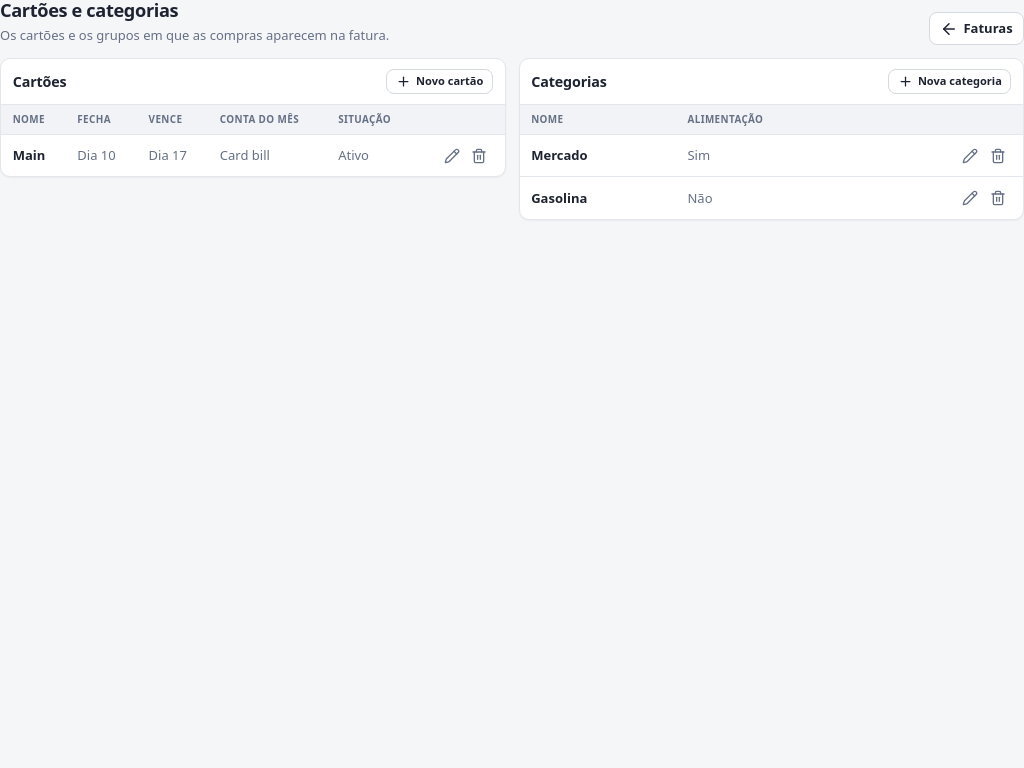
CardSettingsPage › keeps the form open with the server message when saving fails
Expected: the element "Categorias" is shown, left=518, top=58, right=1023, bottom=220
What coordinates should you click on to do the following:
click the button named "Editar Main"
I would click on:
 (452, 156)
Its box is left=438, top=142, right=466, bottom=169.
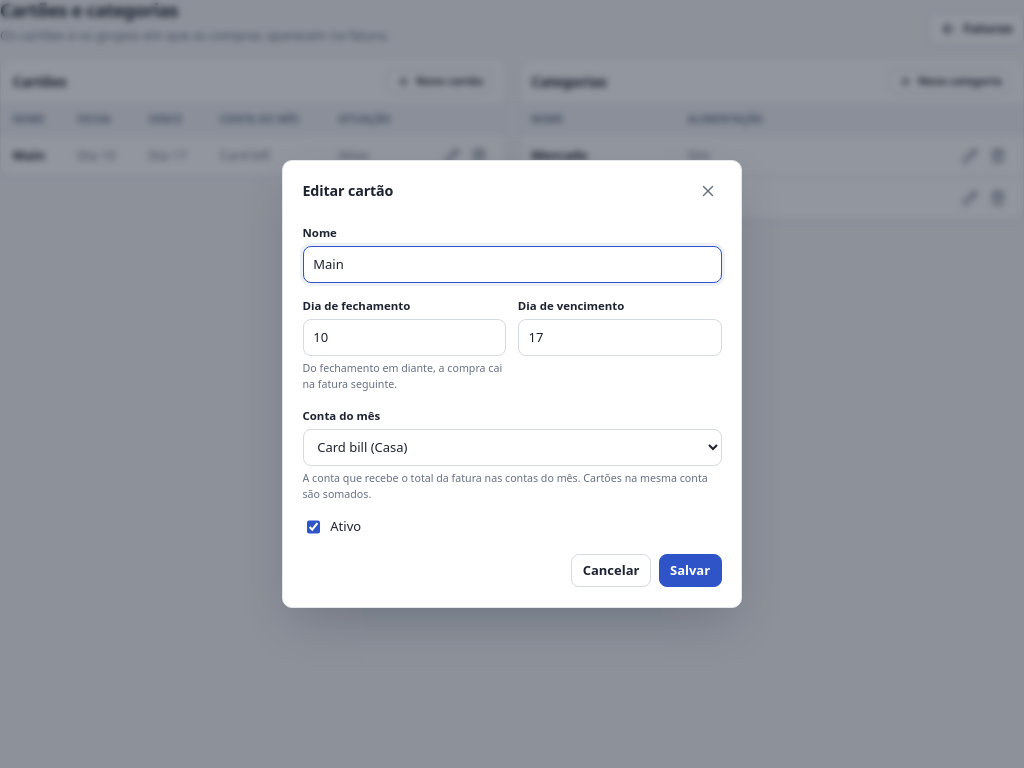
What coordinates should you click on to do the following:
click the button "Salvar"
I would click on:
 (690, 571)
Its box is left=659, top=554, right=722, bottom=587.
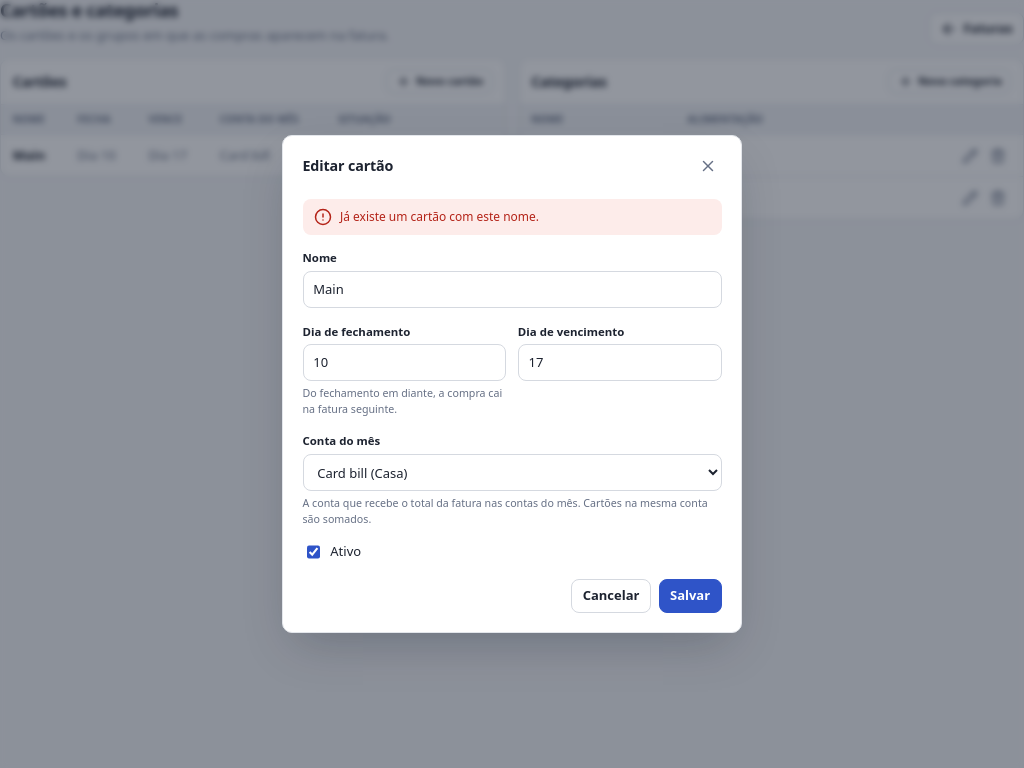
Expected: the message reads "Já existe um cartão com este nome.", left=340, top=208, right=539, bottom=225
